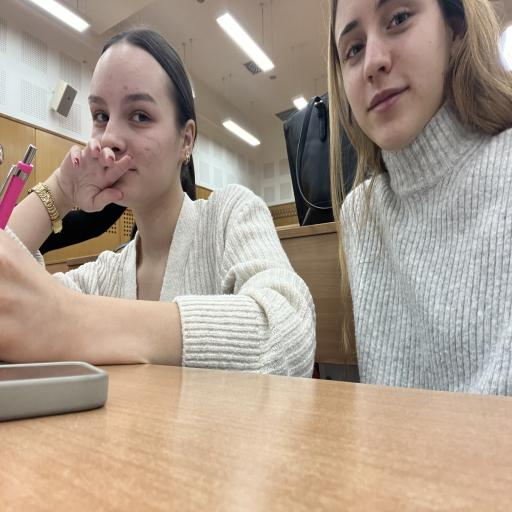marija: (88, 40, 175, 206)
masa: (334, 0, 444, 151)
